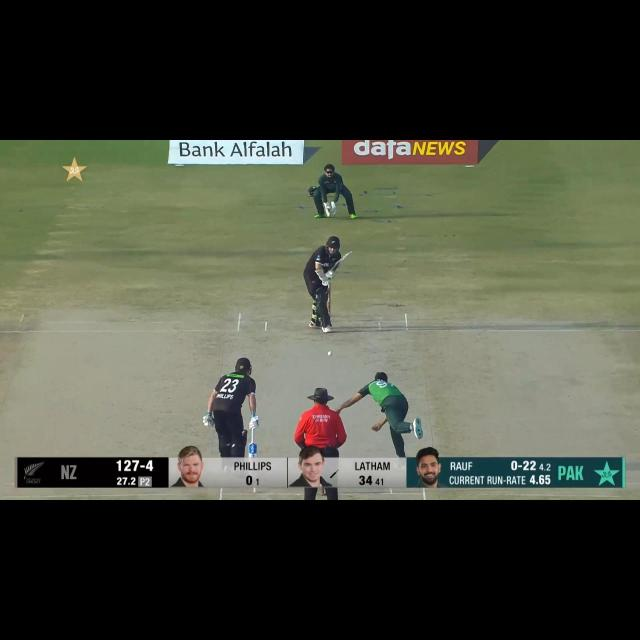bat: (331, 248, 353, 273), (245, 443, 260, 458)
toe: (344, 248, 355, 257)
